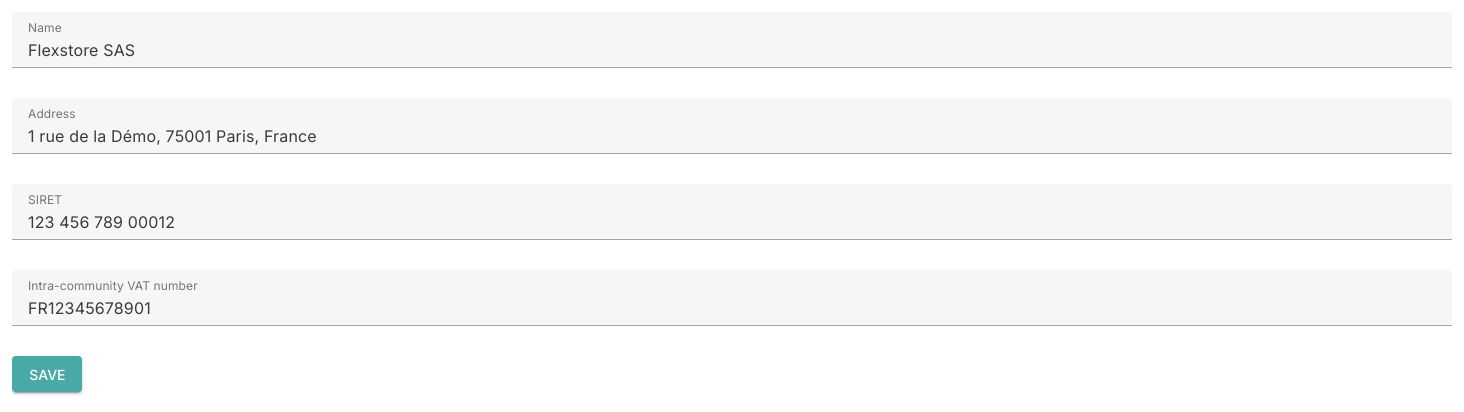
SellerForm.vue › refuses a SIRET that is not 14 digits
Replace the text in the field labelled "SIRET" with "123" at (732, 212), box [12,184,1452,240]
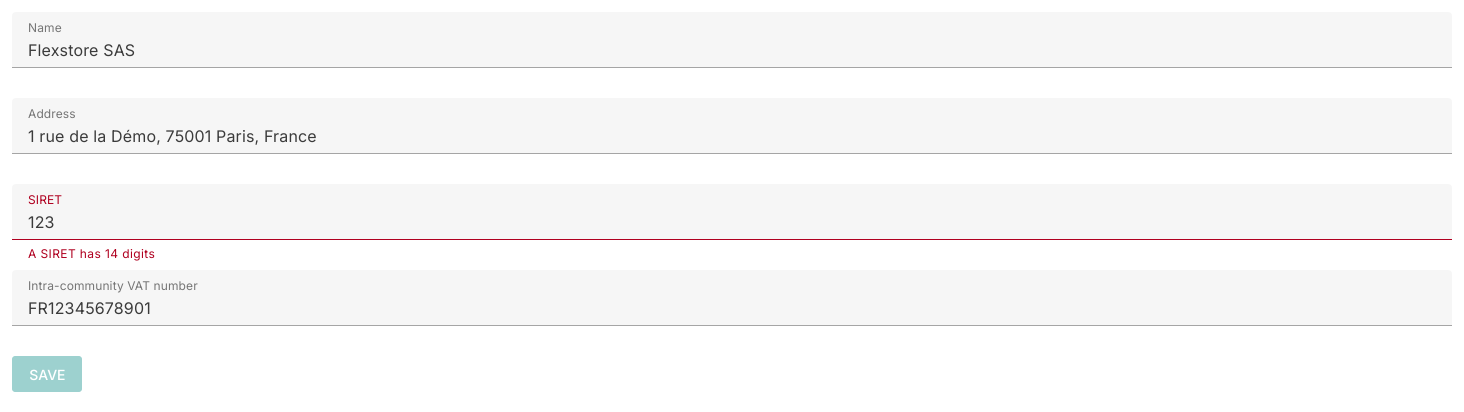
Now the text "A SIRET has 14 digits" is shown, box [28,246,155,261]
